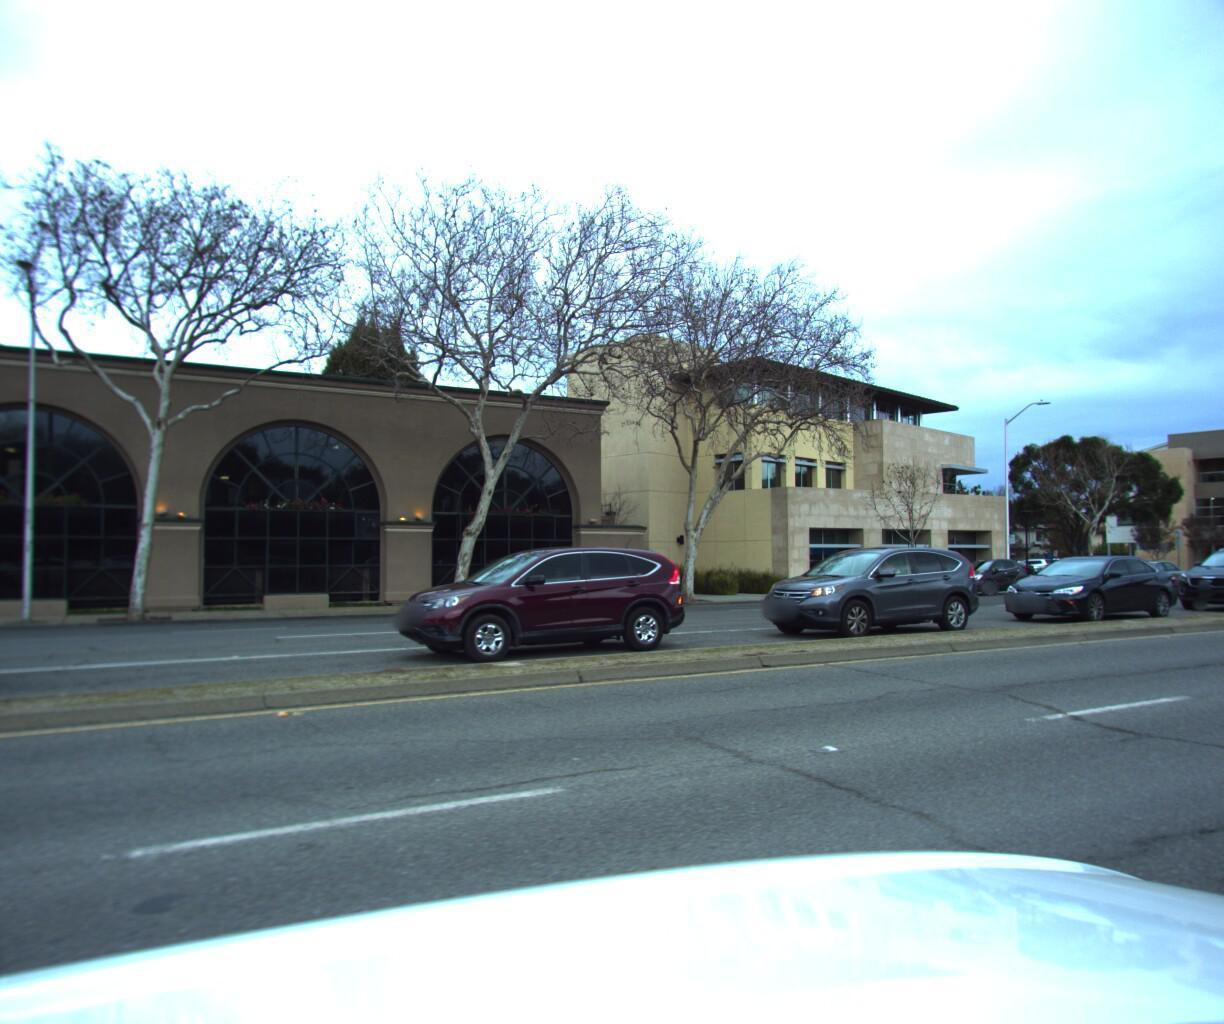car: (382, 543, 703, 671), (743, 542, 994, 644), (988, 550, 1190, 625), (1163, 539, 1224, 609), (936, 552, 1029, 594), (1101, 553, 1192, 591)
